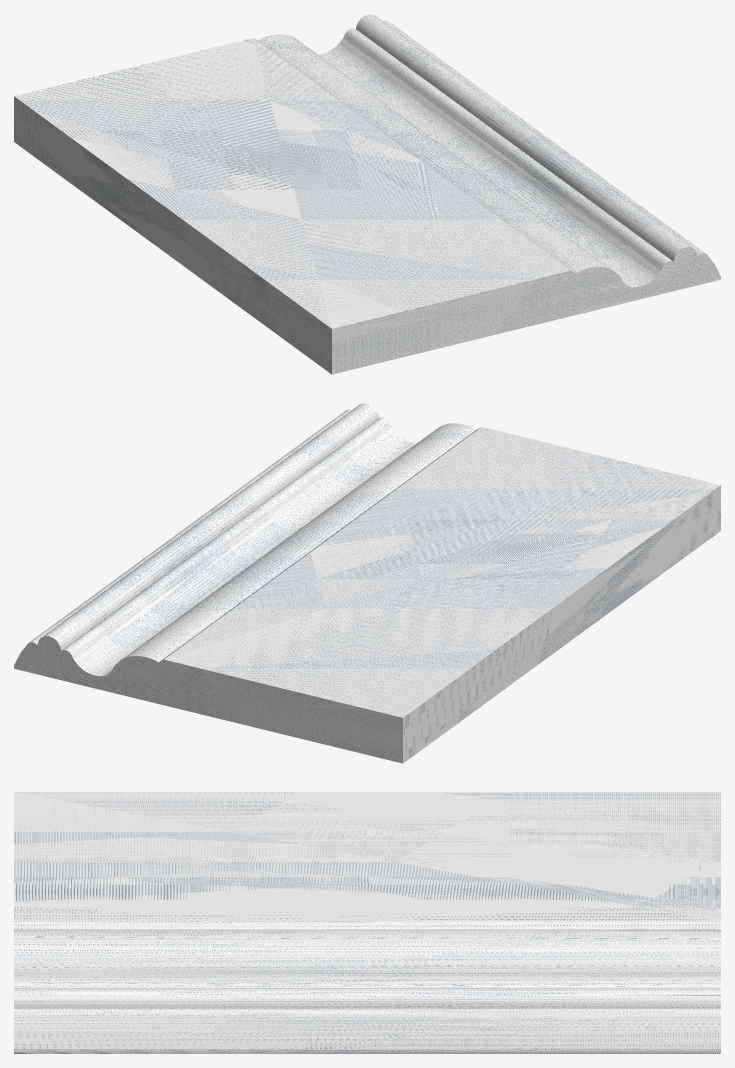
Rendered from Baseboard_Model.dae.
3 renders of one model, top to bottom at view 1: azimuth 30°, elevation 25°; view 2: azimuth 150°, elevation 25°; view 3: azimuth 270°, elevation 25°, orthographic. The views are drawn at different scales.
Visible parts, largest first — view 1: group_0; view 2: group_0; view 3: group_0.
Boxes of the visible parts, left/top/right/bottom form: group_0: left=14, top=14, right=720, bottom=374; group_0: left=14, top=403, right=720, bottom=763; group_0: left=14, top=792, right=720, bottom=1053.
Size of the model in its own units: 5.56 by 7.87 by 0.625.
